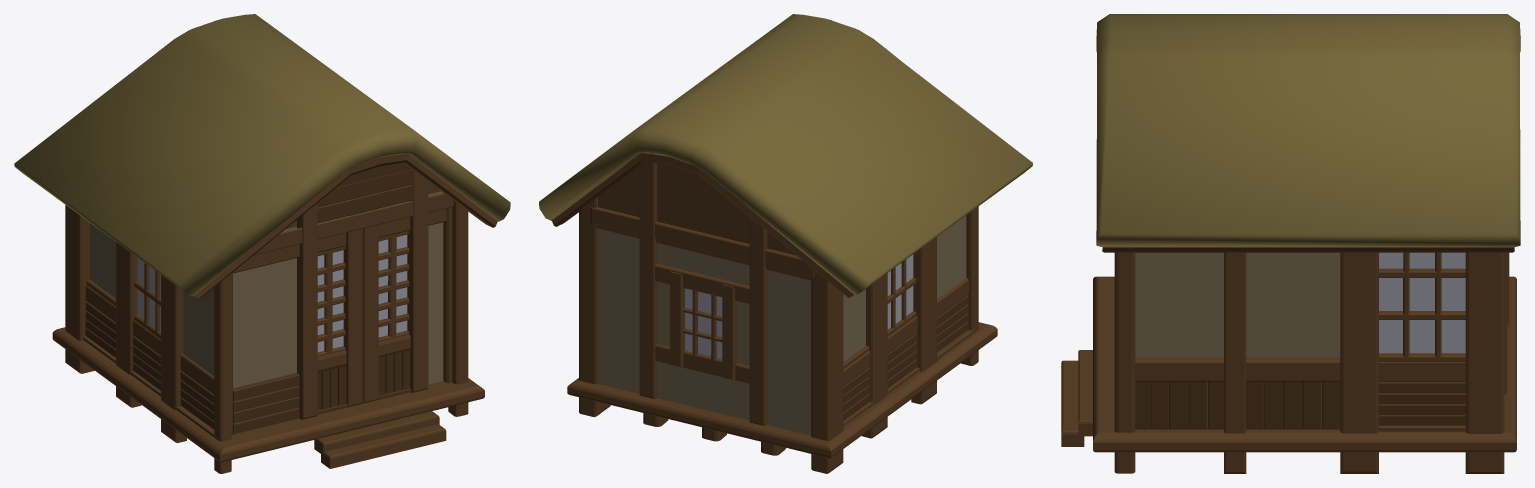
Rendered from CasaPequena.fbx.
The picture shows the model from 3 angles, left to right: view 1: azimuth 30°, elevation 25°; view 2: azimuth 150°, elevation 25°; view 3: azimuth 270°, elevation 25°; orthographic projection. The views are drawn at different scales.
Visible parts, largest first — view 1: CasaPequena_LOD0; view 2: CasaPequena_LOD0; view 3: CasaPequena_LOD0.
Part boxes in pixels (x1,y1,x2,y2): CasaPequena_LOD0: (14,14,510,473); CasaPequena_LOD0: (539,14,1032,473); CasaPequena_LOD0: (1061,14,1520,473).
Size of what is drawn, in the model's own units: 507 by 446 by 479.
